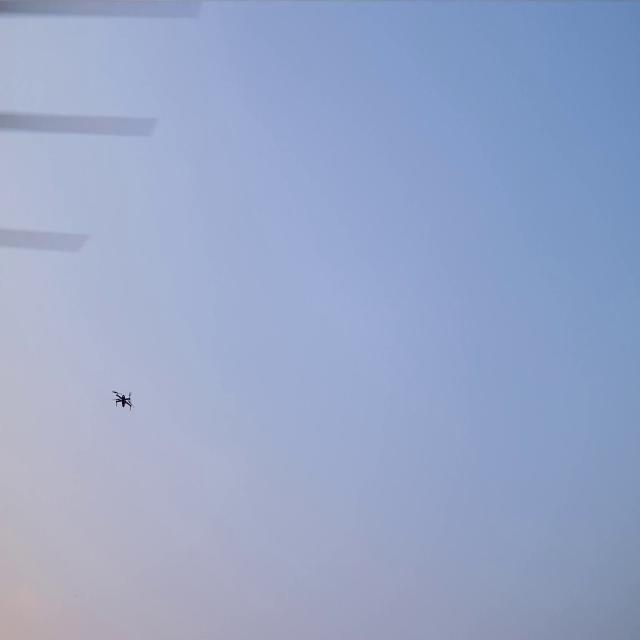UAV: (110, 389, 134, 411)
